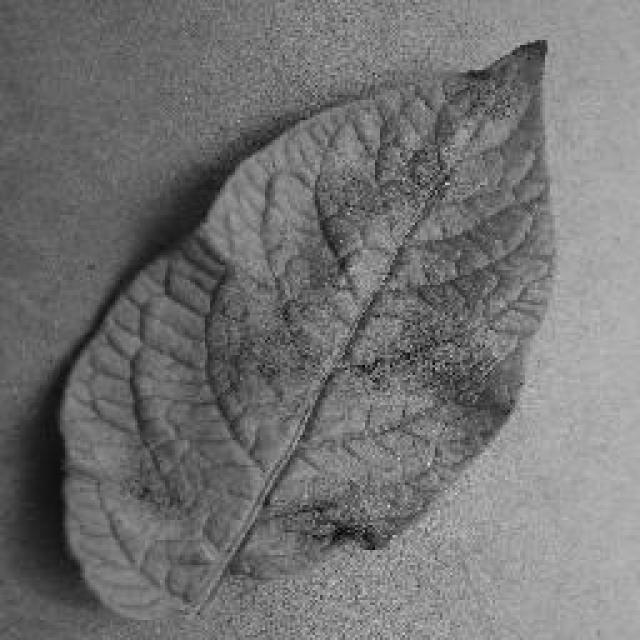Potato: (55, 35, 557, 620)
